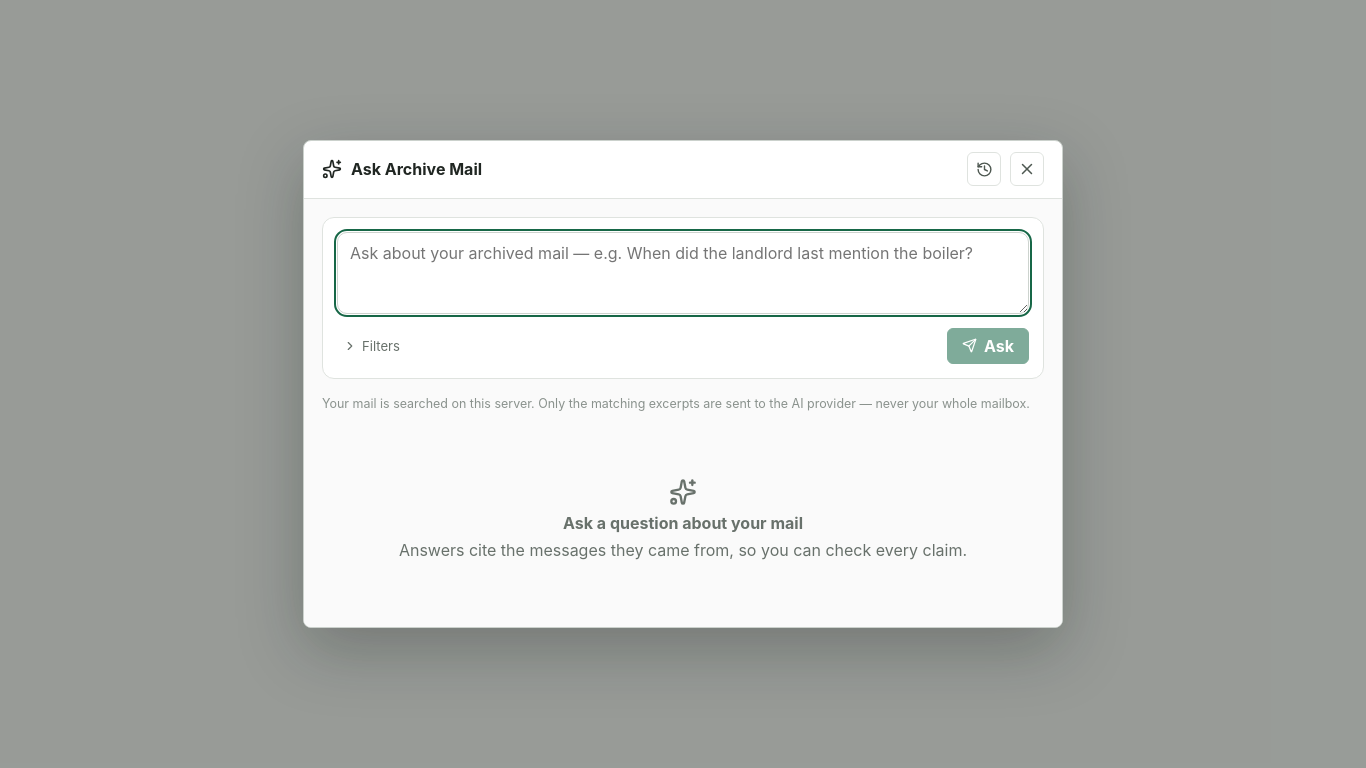
Test: AskArchiveMailDialog › reuses a question from history
Click the button named "Recent questions" at x=984, y=170, box [967,152,1001,186]
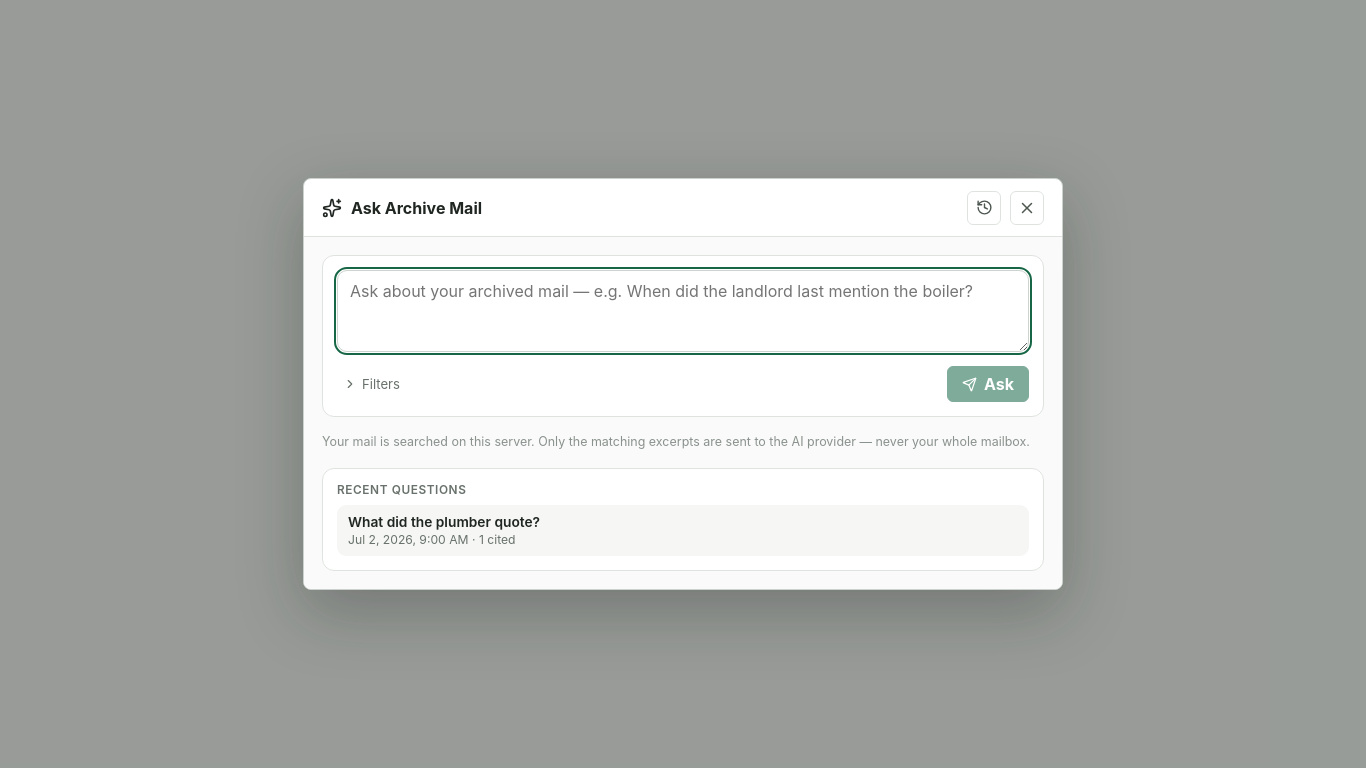
Click the button titled "Reuse this question" at x=444, y=522, box [337,504,1029,556]
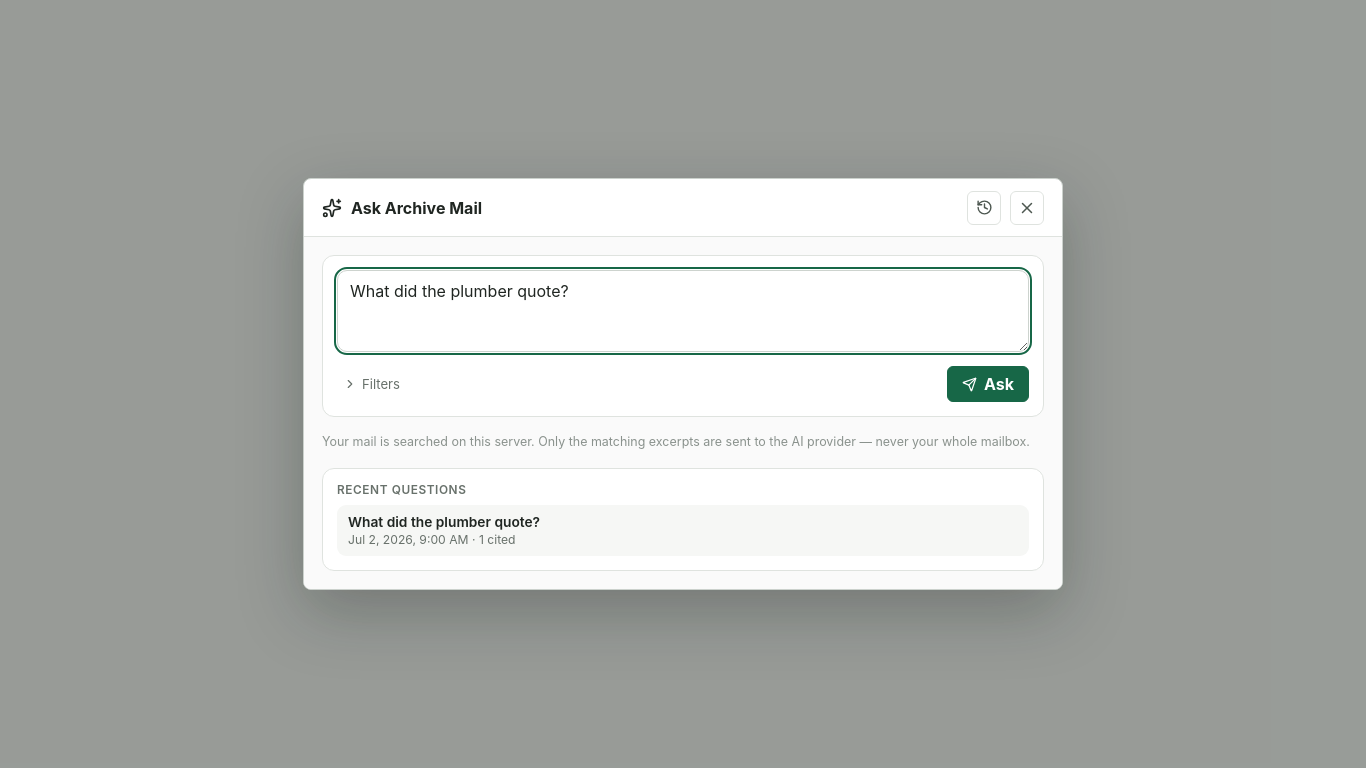
Result: the text box with placeholder "Ask about your archived mail" holds "What did the plumber quote?" at [337,270,1029,352]
